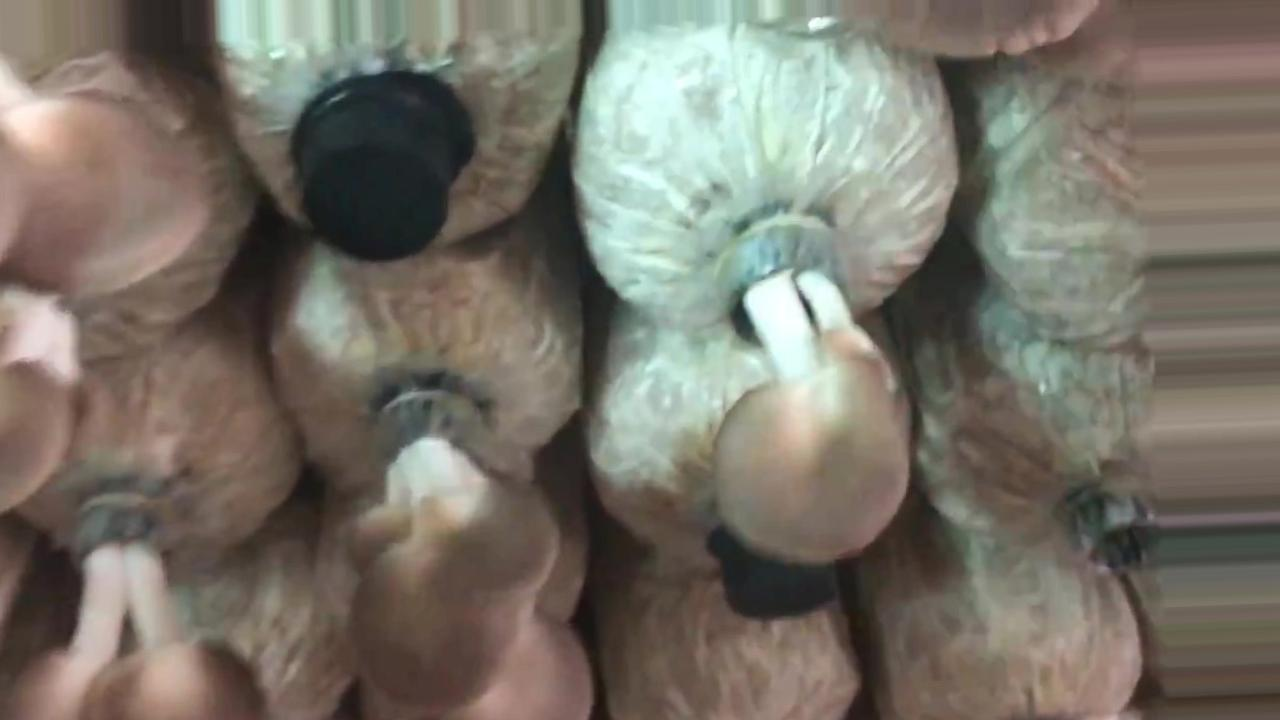nam: (353, 396, 589, 720), (713, 220, 909, 562), (10, 497, 266, 719), (1, 61, 205, 298), (1, 289, 85, 511)
